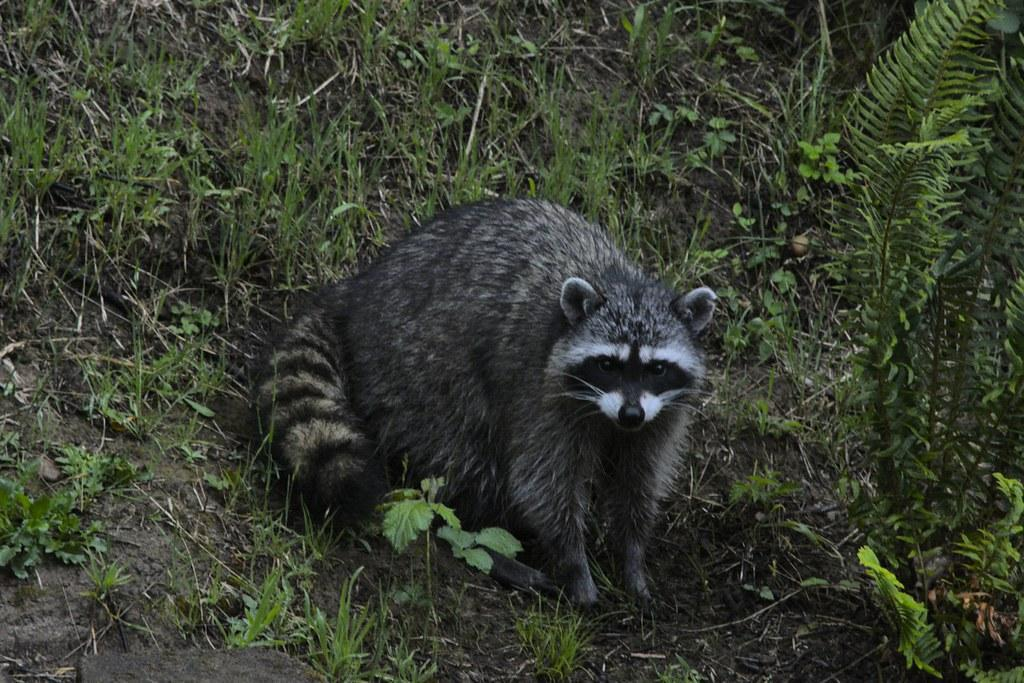raccoon: (253, 193, 718, 617)
